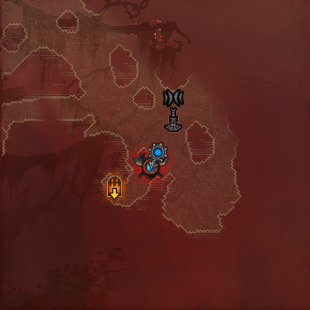Exit: (105, 172, 124, 199)
